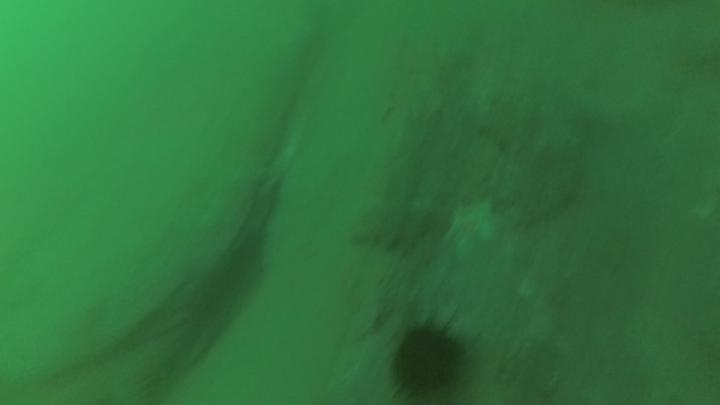echinus: (384, 312, 475, 403)
starfish: (440, 193, 505, 263)
